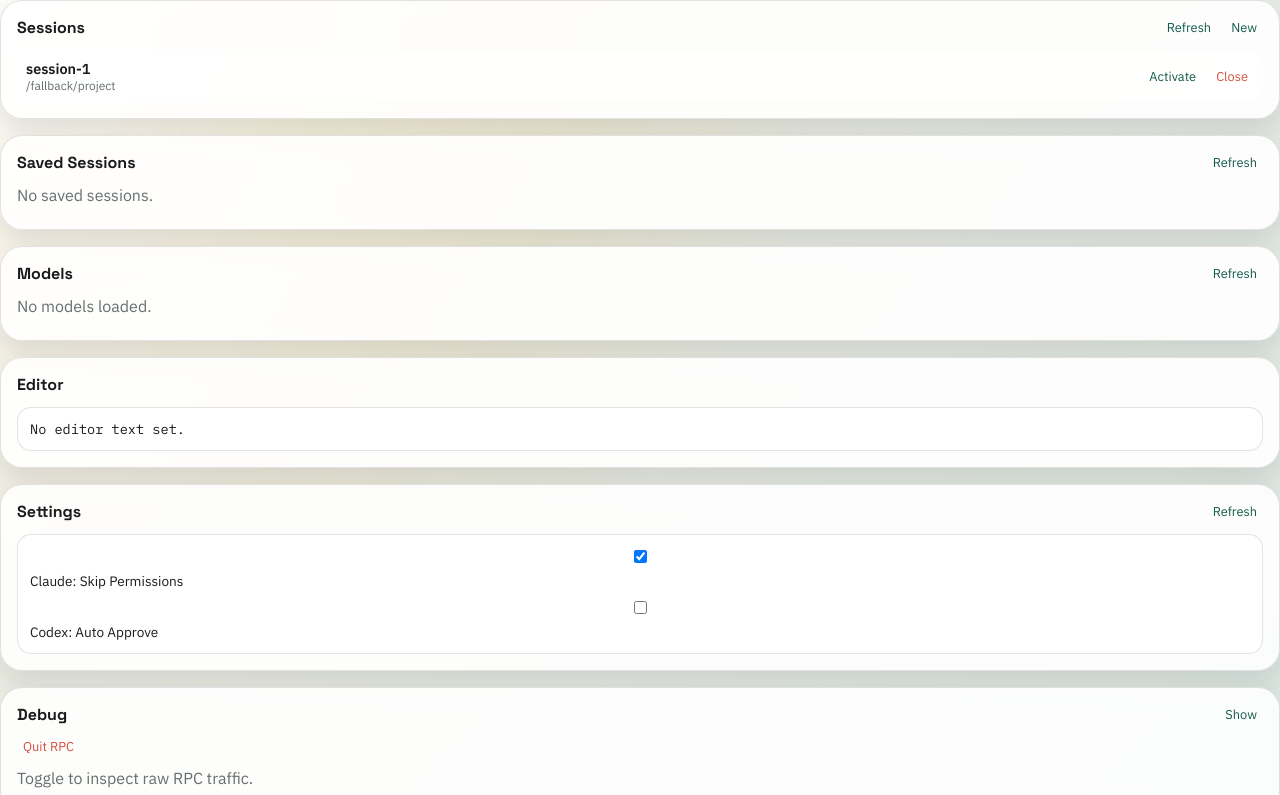
Test: Sidebar › Form Defaults from Active Session › falls back to first running session cwd when no active session
This screenshot has width=1280, height=795.
Click the button "New". click: (1244,28)
box: [1225, 18, 1263, 37]
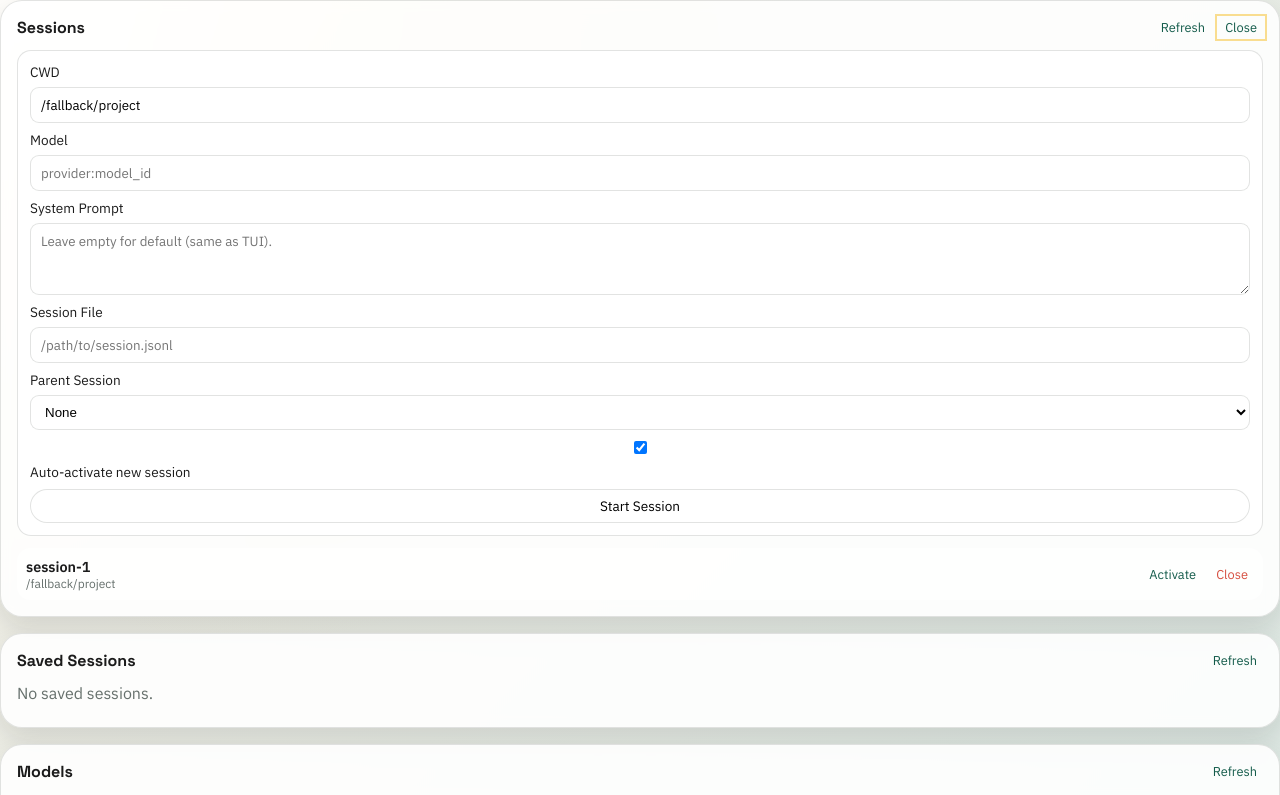
Expected: the field labelled "CWD" holds "/fallback/project", [30, 87, 1250, 123]
